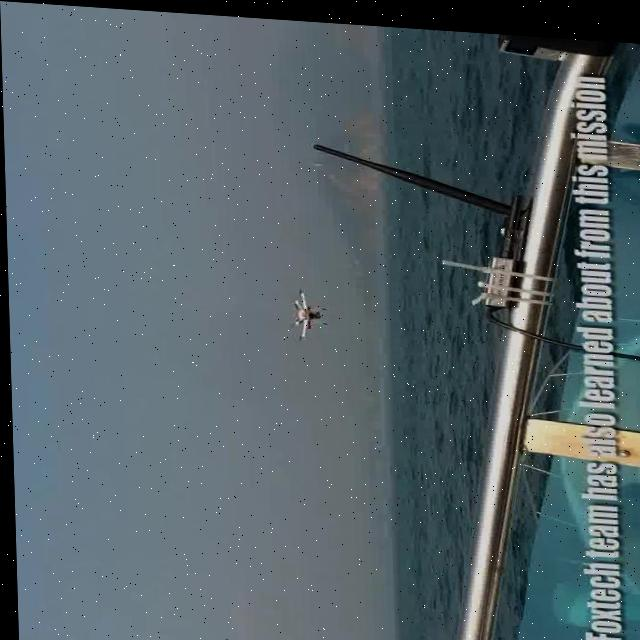drone: (279, 284, 330, 339)
